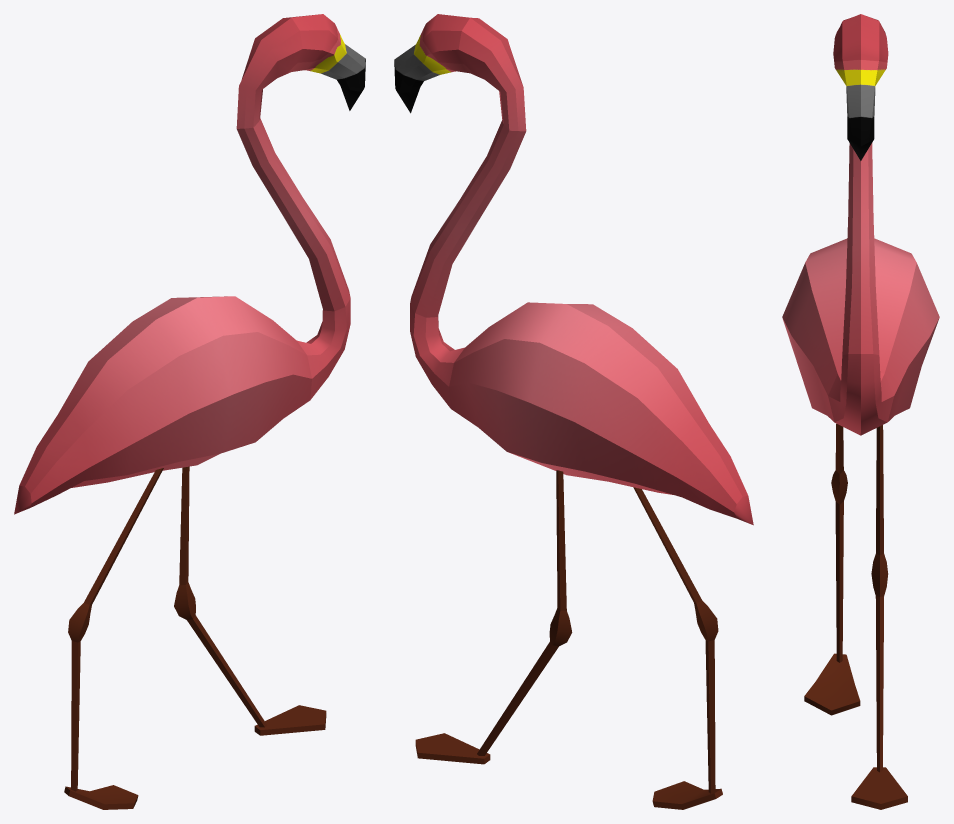
File: flamingo.glb
3 views of the same model, side by side, from view 1: azimuth 30°, elevation 25°; view 2: azimuth 150°, elevation 25°; view 3: azimuth 270°, elevation 25° (orthographic). The views are drawn at different scales.
Parts seen in each view (by area): view 1: Object_2, Object_3; view 2: Object_2, Object_3; view 3: Object_2, Object_3.
Boxes of the visible parts, x1=… form: Object_2: x1=14, y1=14, x2=365, y2=514; Object_3: x1=64, y1=466, x2=326, y2=809; Object_2: x1=394, y1=14, x2=753, y2=525; Object_3: x1=415, y1=470, x2=722, y2=809; Object_2: x1=782, y1=14, x2=939, y2=435; Object_3: x1=804, y1=423, x2=907, y2=809.
Bounding box in the file's own units: 5.64 × 11.22 × 2.03.
Materials: 2 (1 with a texture image).
